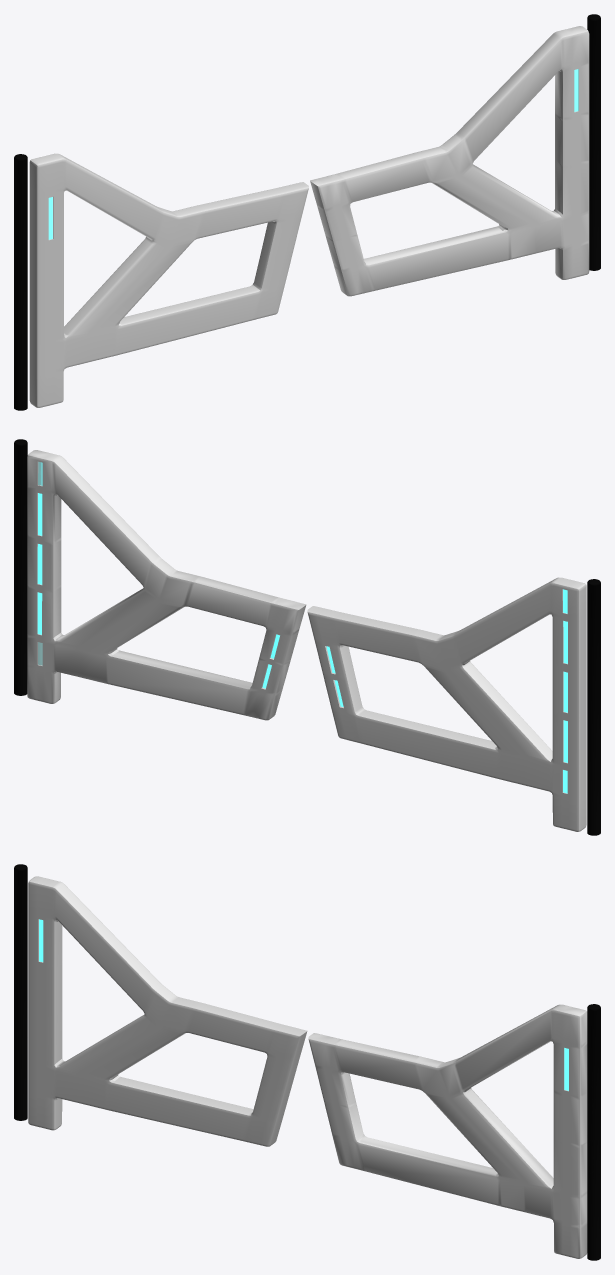
The model's file is gate2.fbx.
3 renders of one model, top to bottom at view 1: azimuth 30°, elevation 25°; view 2: azimuth 150°, elevation 25°; view 3: azimuth 330°, elevation 25°, orthographic.
Parts seen in each view (by area): view 1: Road.002; view 2: Road.002; view 3: Road.002.
Boxes of the visible parts, box(x1,y1,x2,y2) form: Road.002: box(14, 14, 600, 410); Road.002: box(14, 439, 600, 835); Road.002: box(14, 864, 600, 1260).
Size of the model in its own units: 626 by 259 by 16.23.
